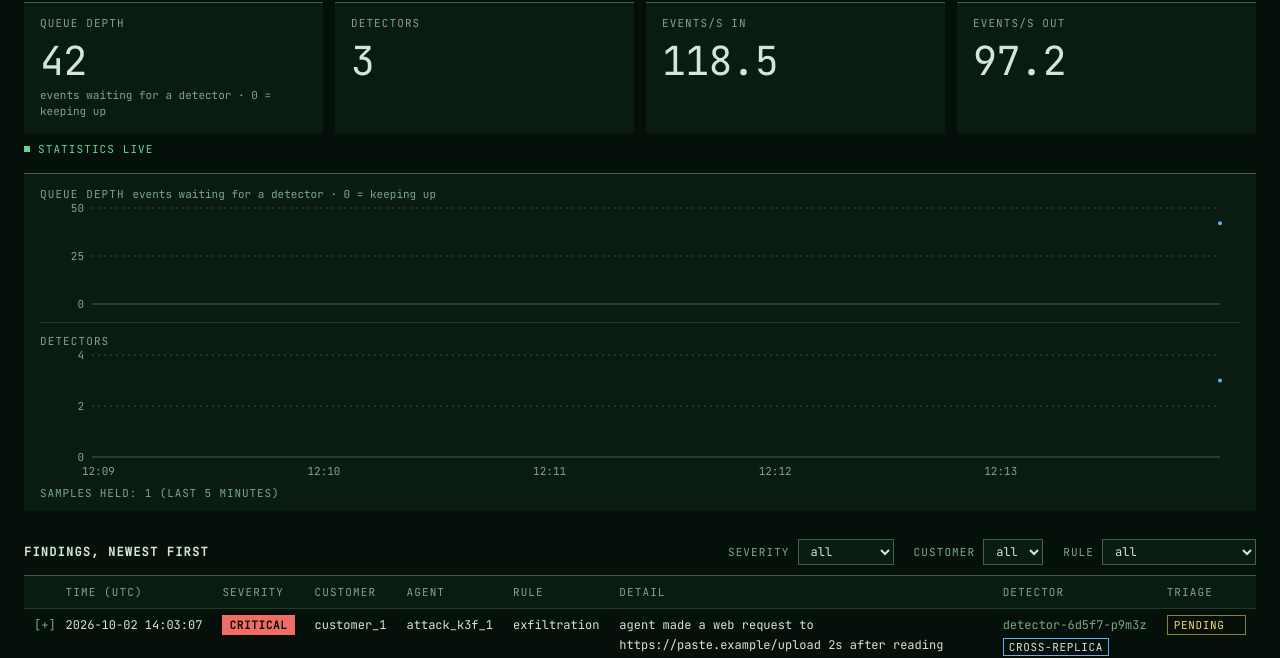
Test: expands an exfiltration row to show its evidence, with or without a verdict
The width and height of the screenshot is (1280, 658).
Click the button named "show details" at (45, 625), box [34, 615, 56, 635]
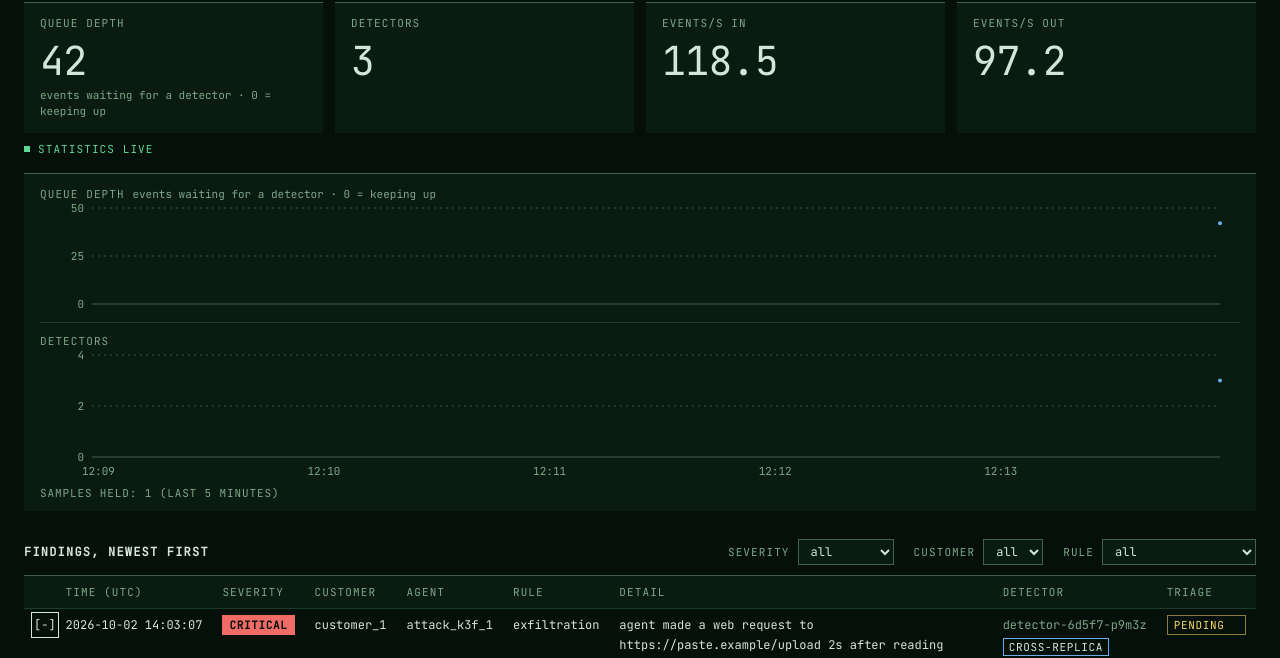
Click the button named "hide details" at (45, 625), box [34, 615, 56, 635]
(page scrolled)
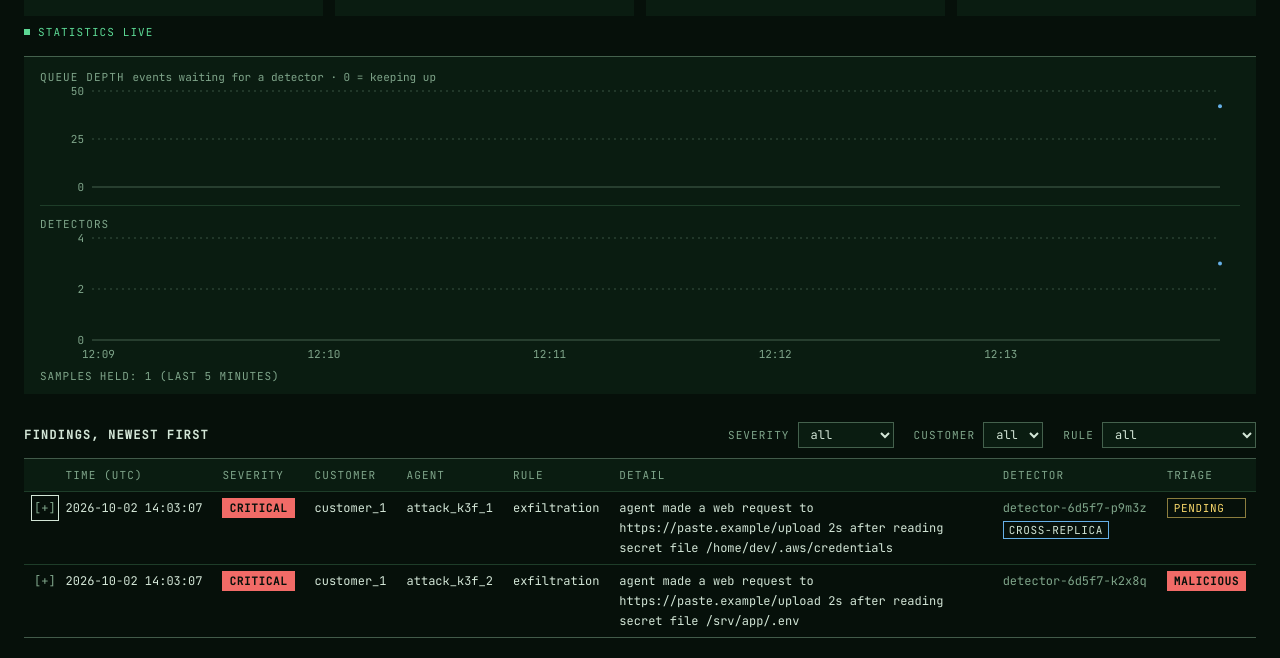
Click the button named "show details" at (45, 581), box [34, 571, 56, 591]
(page scrolled)
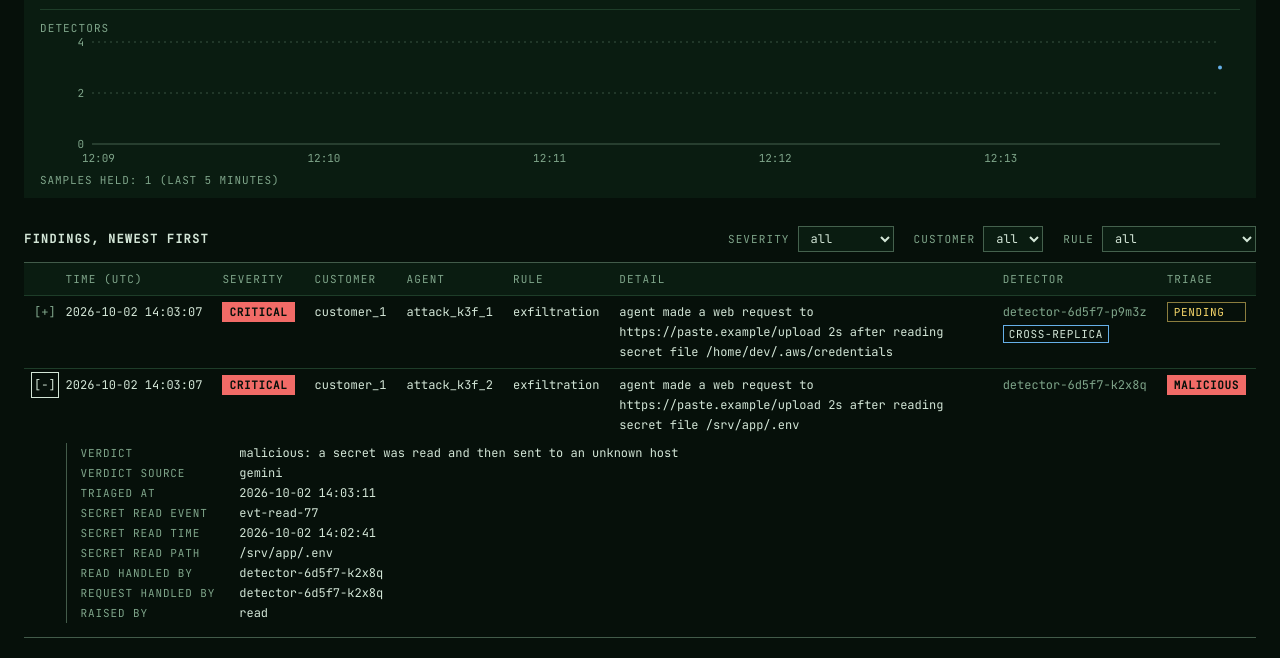
Expected: the text "evt-read-77" is shown, [239, 505, 318, 521]
Expected: the text "read" is shown, [239, 605, 268, 621]
